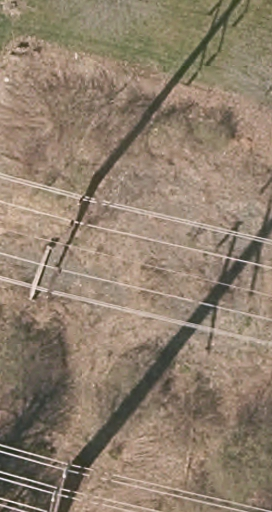DT: (25, 239, 53, 305)
